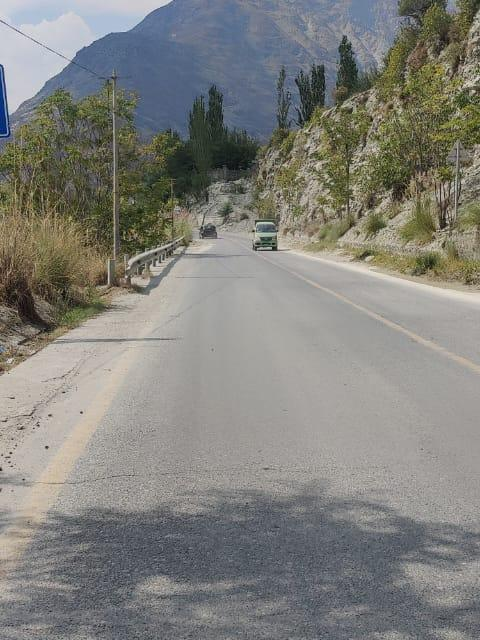sharp_turn: (130, 180, 480, 640)
